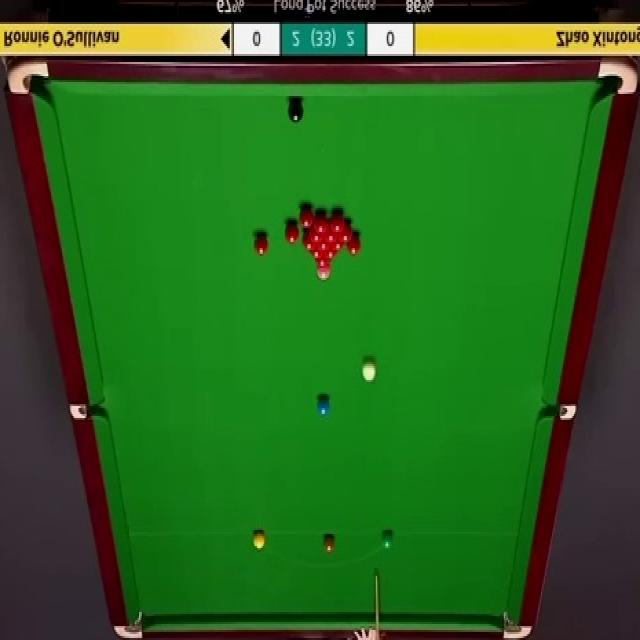black-ball: (288, 98, 304, 126)
blue-ball: (316, 393, 330, 418)
brown-ball: (322, 534, 334, 552)
green-ball: (382, 530, 393, 550)
pink-ball: (317, 267, 332, 279)
red-ball: (252, 230, 270, 255), (283, 219, 300, 245), (298, 203, 314, 228), (348, 234, 363, 258), (339, 221, 355, 243), (308, 223, 324, 244), (331, 213, 347, 234), (324, 223, 339, 243), (314, 210, 327, 233), (322, 246, 340, 258), (302, 239, 316, 251), (316, 258, 332, 268), (315, 241, 330, 251), (331, 241, 345, 250), (309, 250, 324, 258)
white-ball: (361, 358, 377, 384)
yellow-ball: (252, 530, 267, 551)
